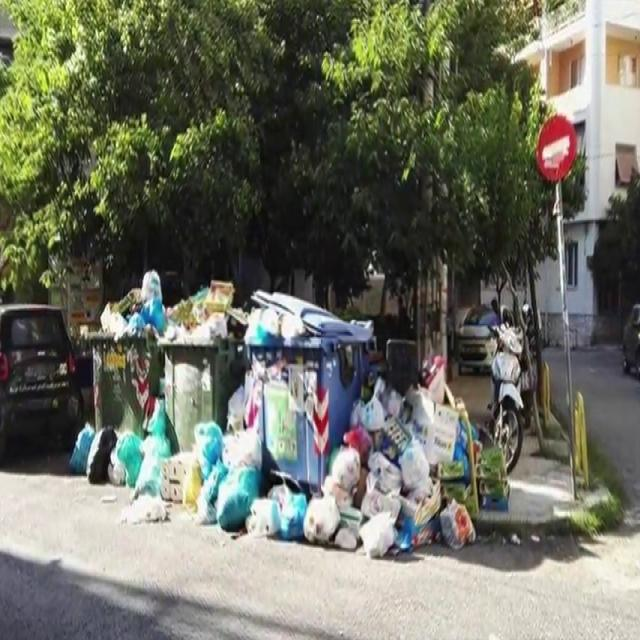garbage: (62, 390, 495, 570), (92, 268, 294, 357)
